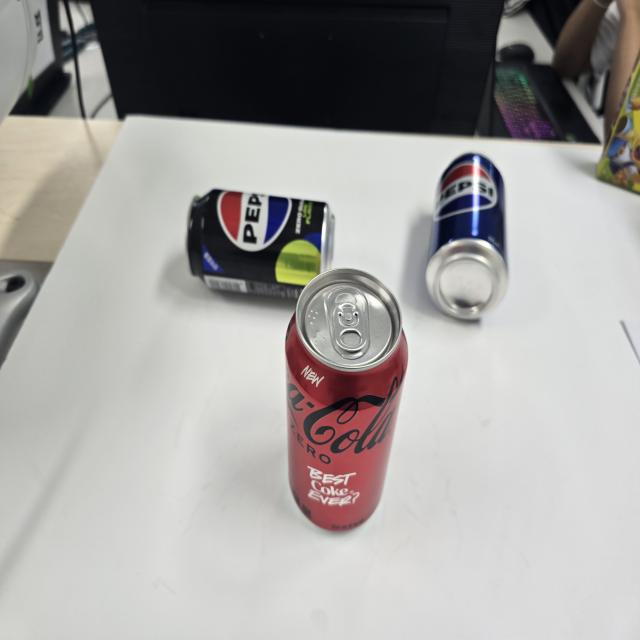can_coke_zero: (285, 269, 408, 532)
can_pepsi: (426, 153, 508, 320)
can_pepsi_zero: (187, 189, 334, 298)
